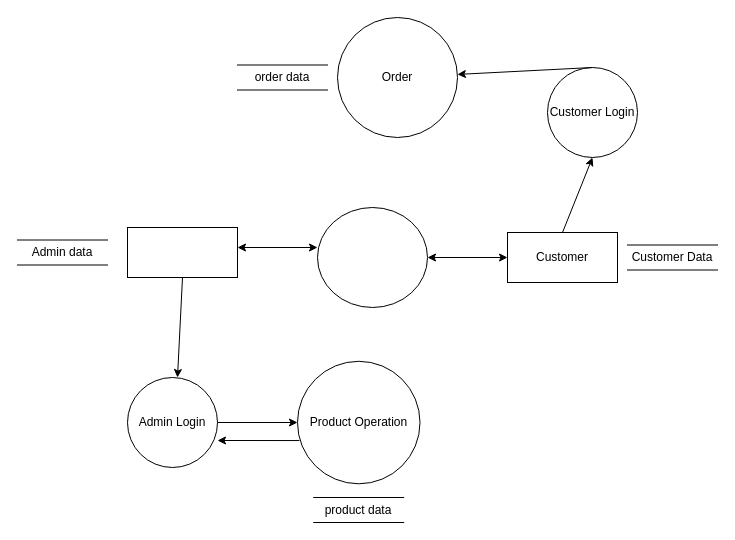
This 735x540 diagram has some shape labels left out. Here are the shapes that lost their labels. From the top down, the box of each, then its label:
(126, 226, 238, 278): Admin
(316, 206, 428, 308): Online Cloth Shopping
